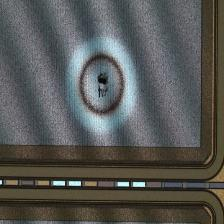PARTICLE: (55, 37, 151, 133)
